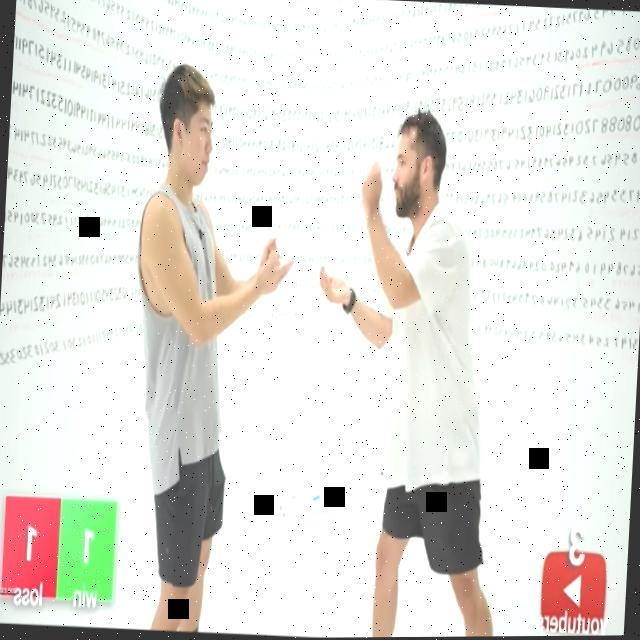Rock: (359, 163, 384, 221), (263, 232, 282, 263)
